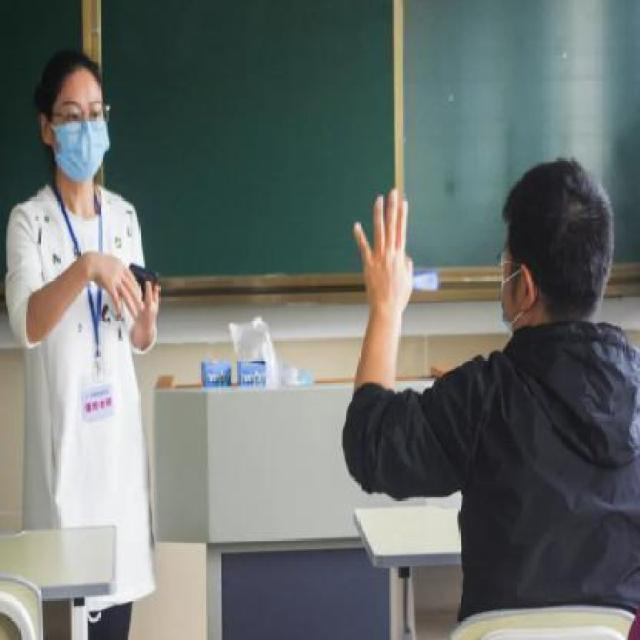face_mask: (41, 109, 116, 185)
glasses: (58, 100, 116, 132)
hand_noglove: (351, 188, 415, 310), (94, 249, 146, 325), (131, 281, 160, 337)
head_nohelmet: (506, 168, 626, 317), (49, 55, 108, 97)
person: (346, 154, 640, 640), (14, 44, 174, 640)
